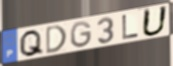3: (96, 15, 115, 45)
D: (45, 24, 68, 56)
G: (69, 20, 93, 49)
L: (121, 13, 140, 41)
Q: (18, 29, 46, 58)
U: (141, 5, 169, 38)
